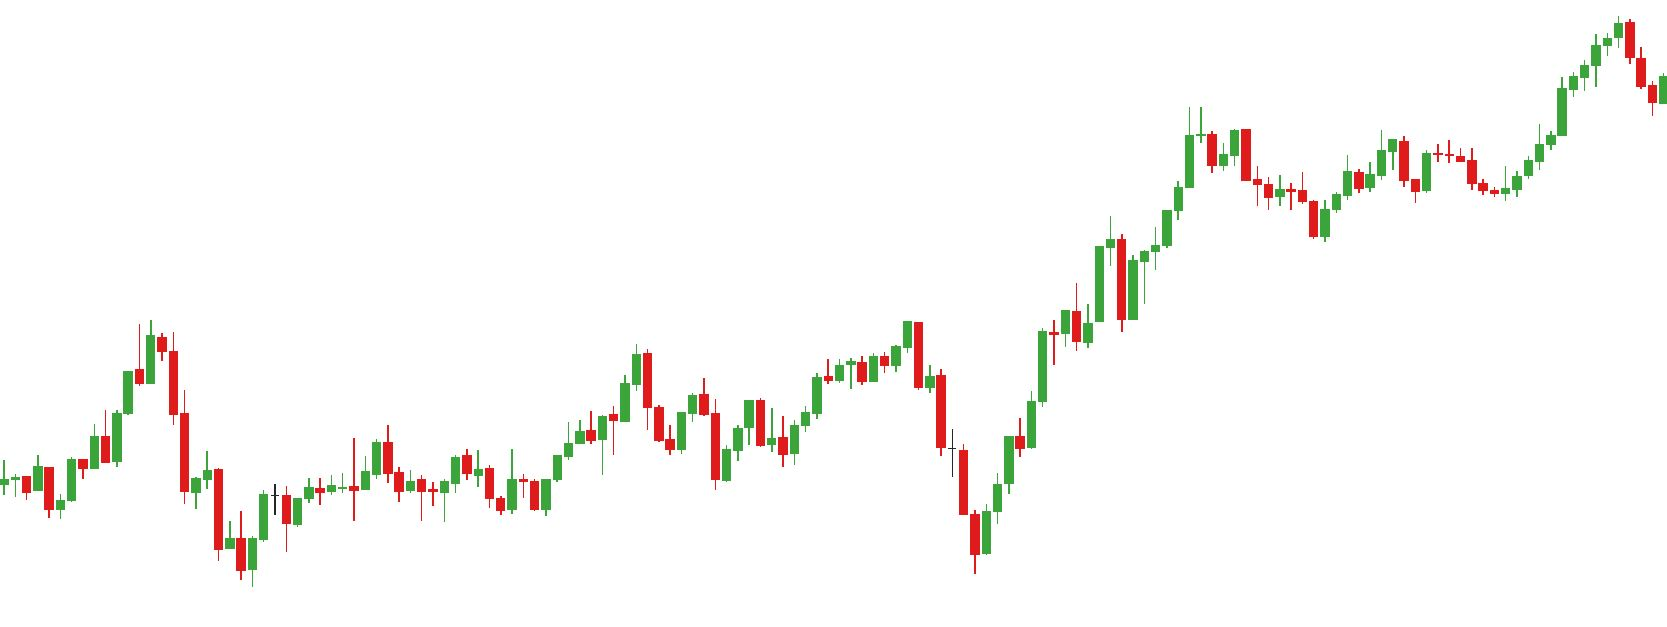buy: (660, 413, 733, 488)
